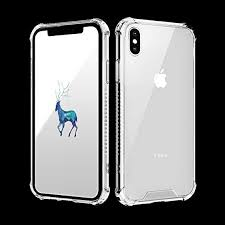iphone: (111, 14, 201, 205)
